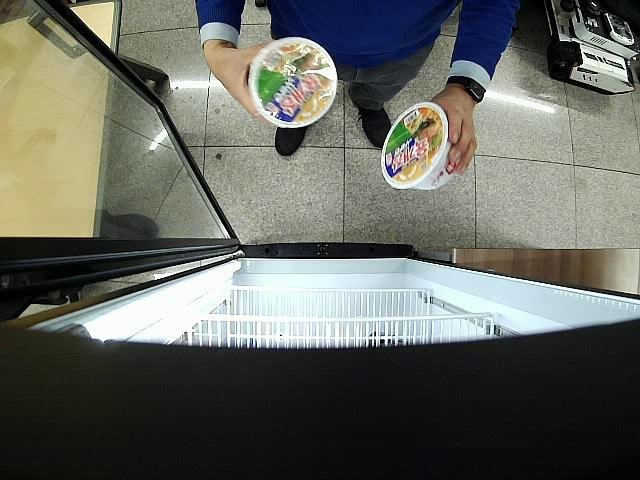00_hand: (204, 42, 276, 127), (428, 90, 477, 175)
09_yukGaeJang: (248, 37, 337, 128), (381, 103, 458, 190)
